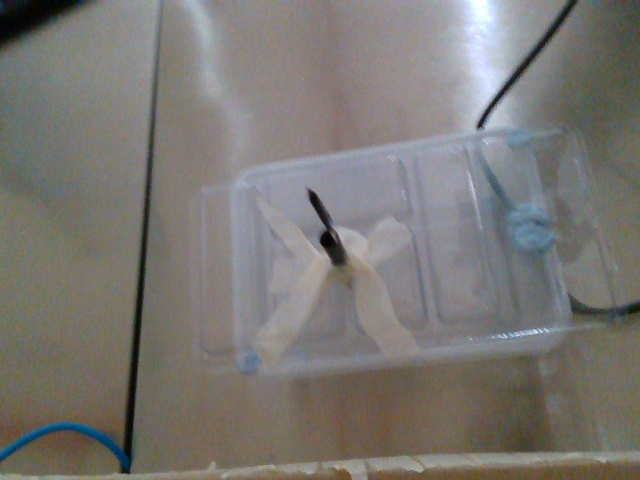test_strip: (303, 187, 338, 242)
